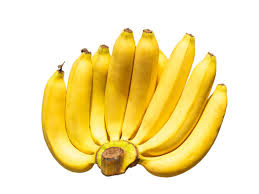banana: (43, 27, 228, 177)
